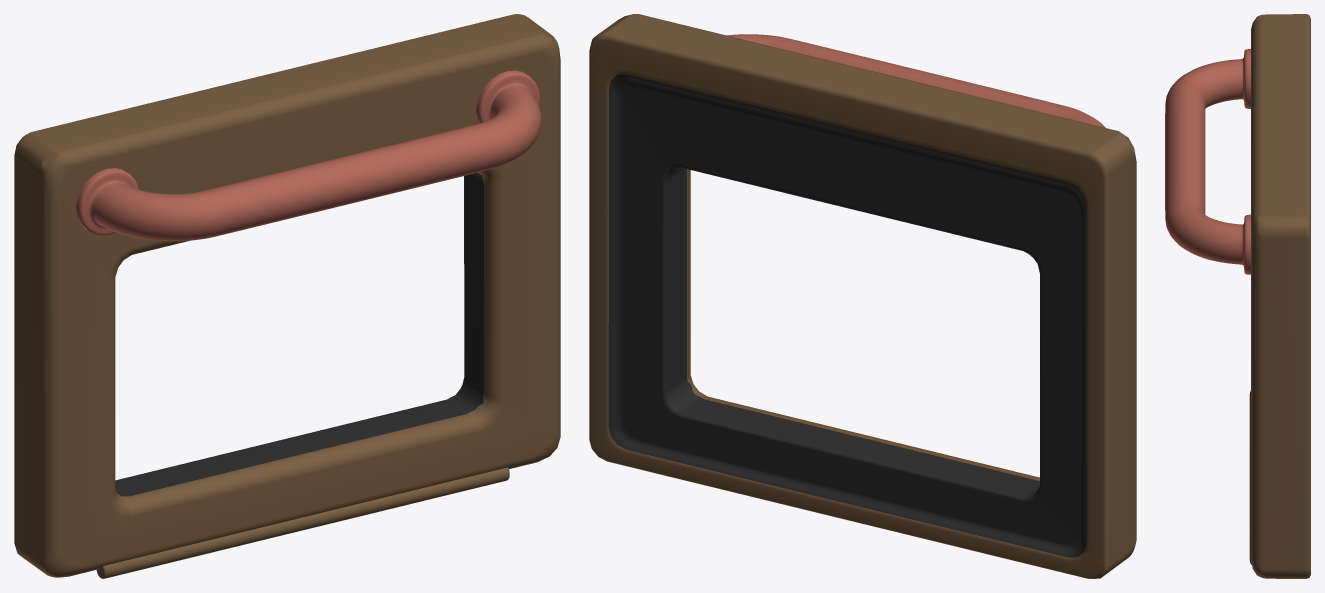
The model's file is SM_Oven_01_Door.fbx.
3 renders of one model, left to right at view 1: azimuth 30°, elevation 25°; view 2: azimuth 150°, elevation 25°; view 3: azimuth 270°, elevation 25°, orthographic. The views are drawn at different scales.
Visible parts, largest first — view 1: Cube.049, Torus, Cylinder.011; view 2: Cube.049, Torus; view 3: Cube.049, Torus, Cylinder.011.
Boxes of the visible parts, <box> form: Cube.049: <box>14,14,560,577</box>; Torus: <box>76,70,541,241</box>; Cylinder.011: <box>96,467,509,578</box>; Cube.049: <box>589,14,1136,578</box>; Torus: <box>727,34,1105,127</box>; Cube.049: <box>1251,14,1310,578</box>; Torus: <box>1165,49,1250,274</box>; Cylinder.011: <box>1249,391,1251,564</box>.
Size of the model in its own units: 99.75 by 80.01 by 28.63.
